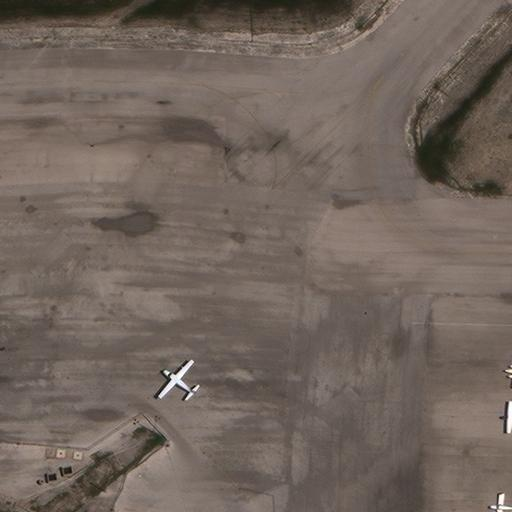Medium Civil Transport: (157, 359, 195, 396)
Small Civil Transport: (487, 494, 512, 512), (499, 401, 512, 433)
